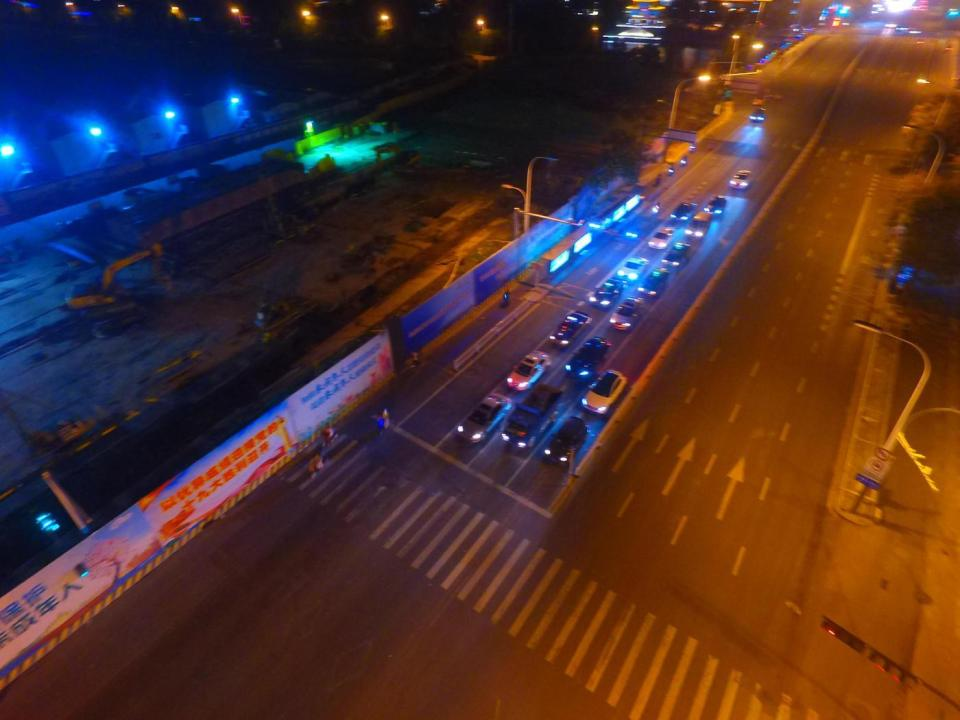car: (457, 392, 514, 444), (579, 369, 629, 413), (545, 414, 588, 464), (562, 336, 610, 378), (505, 347, 550, 391), (548, 309, 592, 345), (609, 295, 644, 332), (589, 275, 623, 310), (637, 266, 670, 298), (684, 208, 713, 240), (615, 256, 650, 282), (662, 241, 691, 269), (648, 226, 676, 250), (671, 200, 698, 224), (703, 194, 727, 217), (729, 170, 753, 188), (748, 107, 766, 123)
